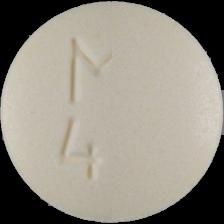68084-946: (0, 0, 224, 224)
